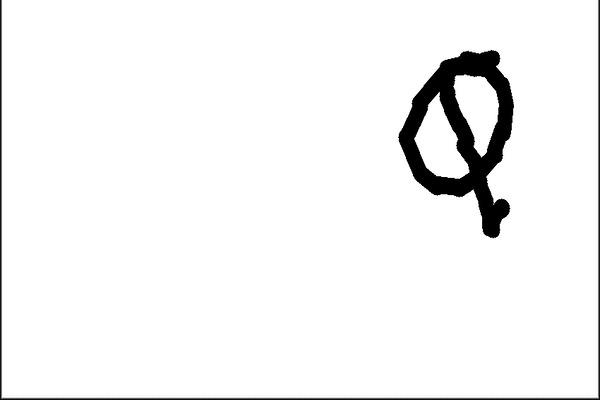Q: (390, 43, 520, 245)
